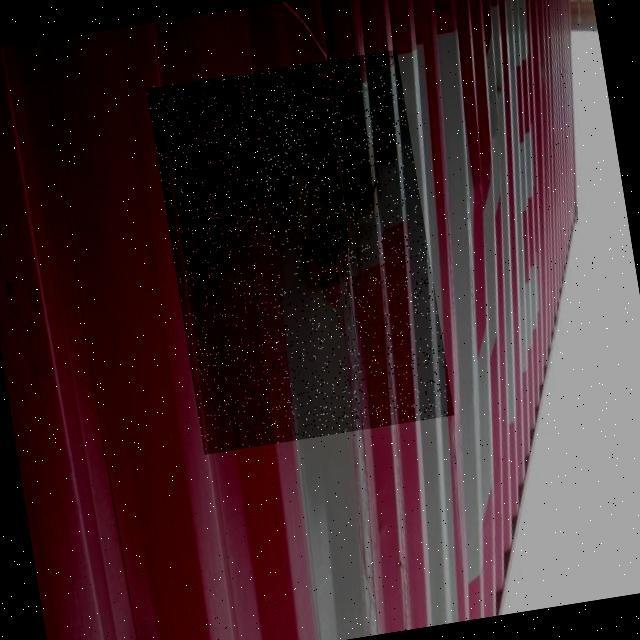Dent: (147, 47, 455, 454)
